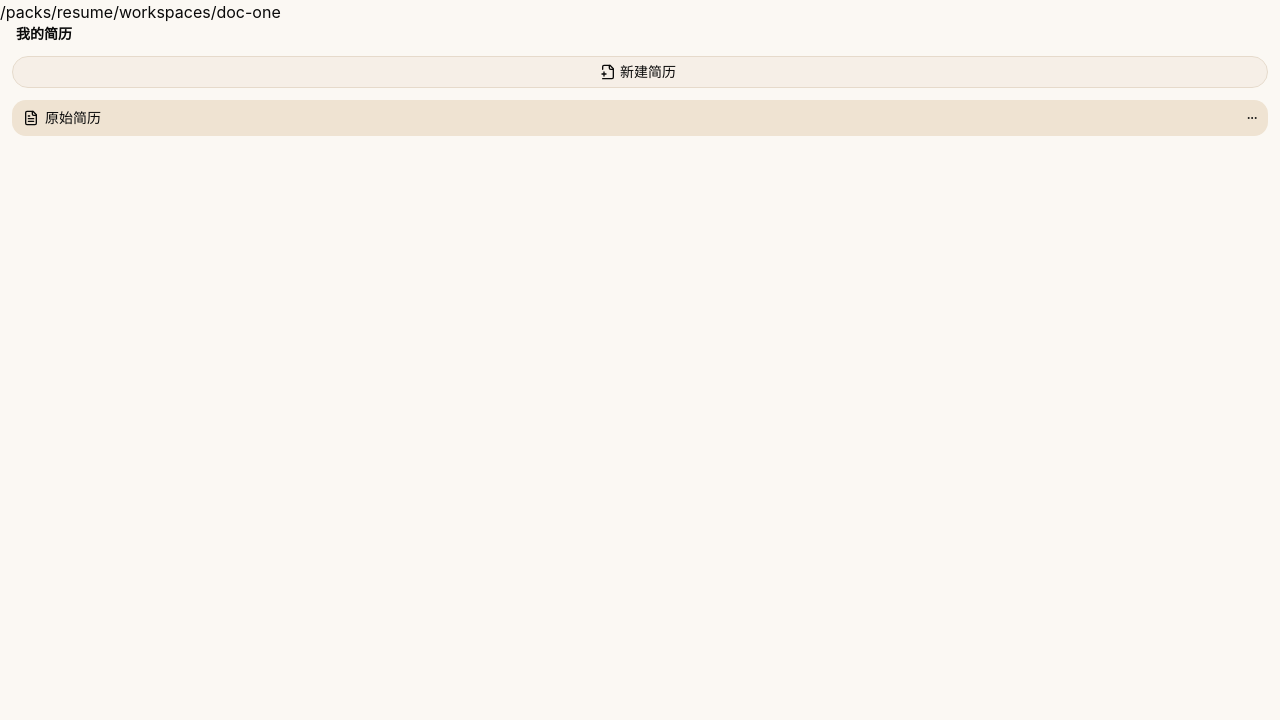
Scenario: ResumeDocumentList actions › renames a resume and notifies the open editor
The image size is (1280, 720).
Press ArrowDown in the button named "管理简历 原始简历", box [1240, 106, 1264, 130]
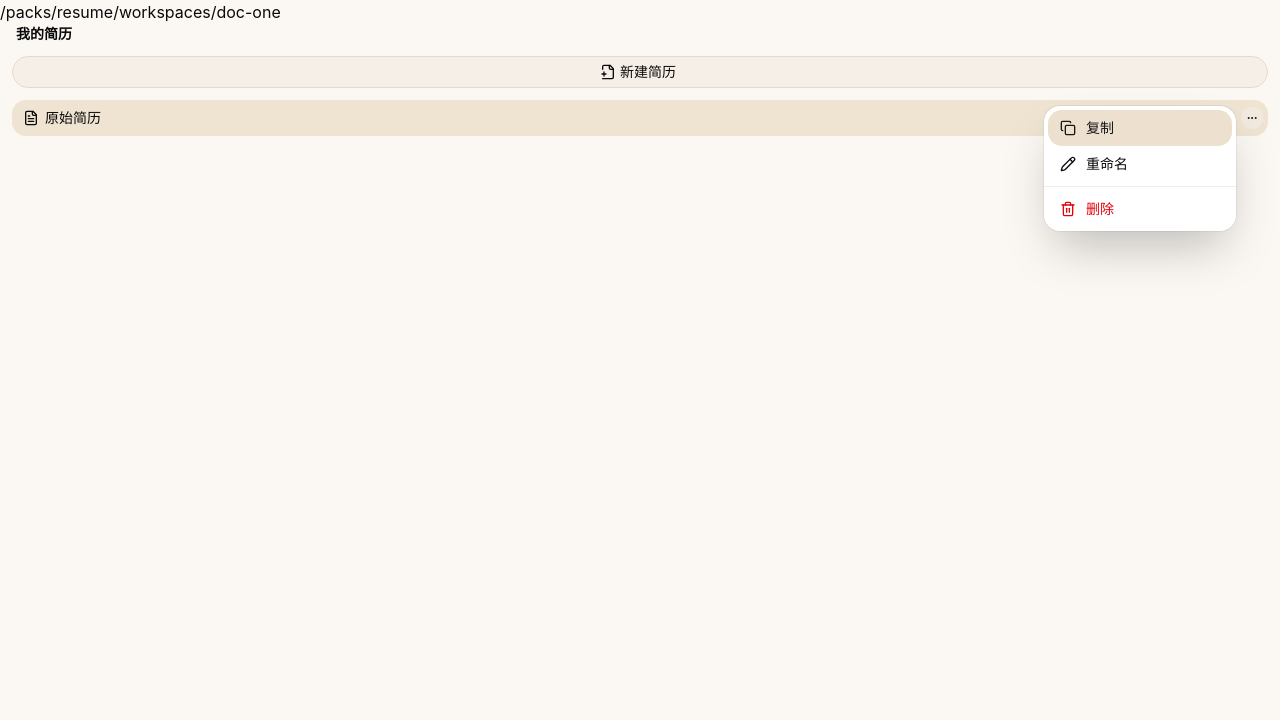
Click the menu item "重命名" at {"x": 1094, "y": 164}, box [1060, 155, 1128, 172]
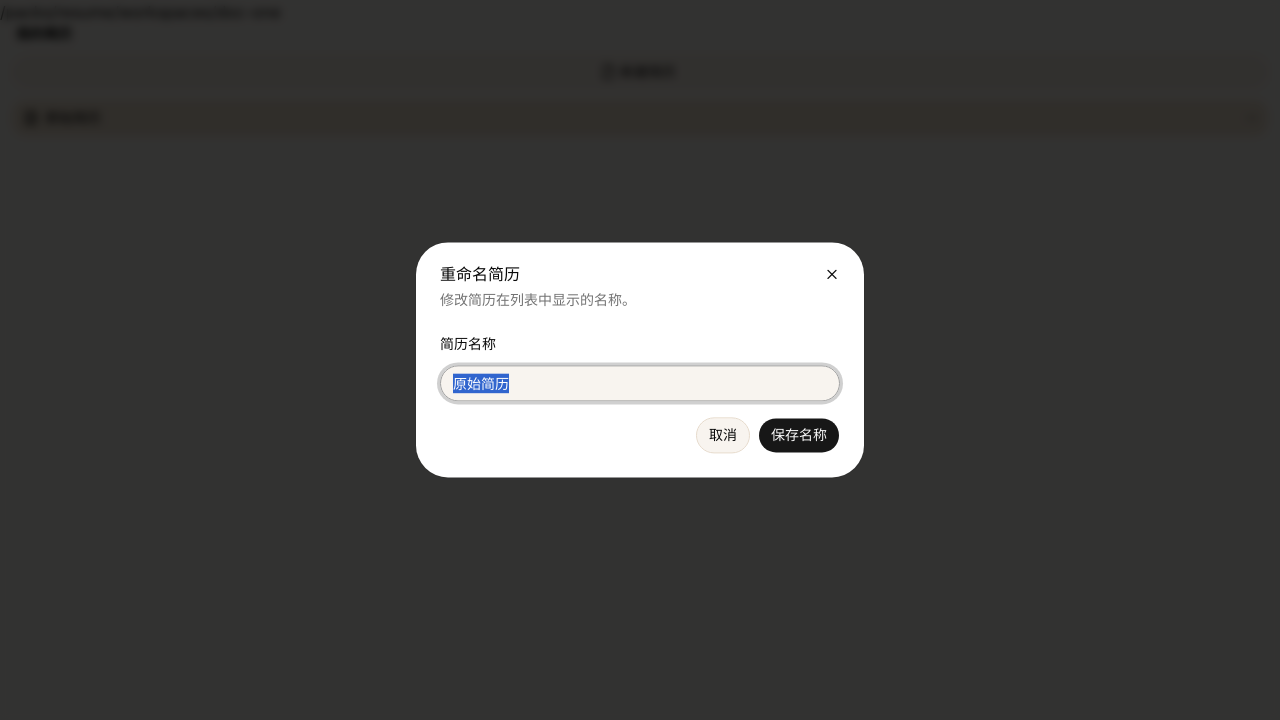
Replace the text in the field labelled "简历名称" with "面试简历" at {"x": 640, "y": 384}, box [440, 366, 840, 402]
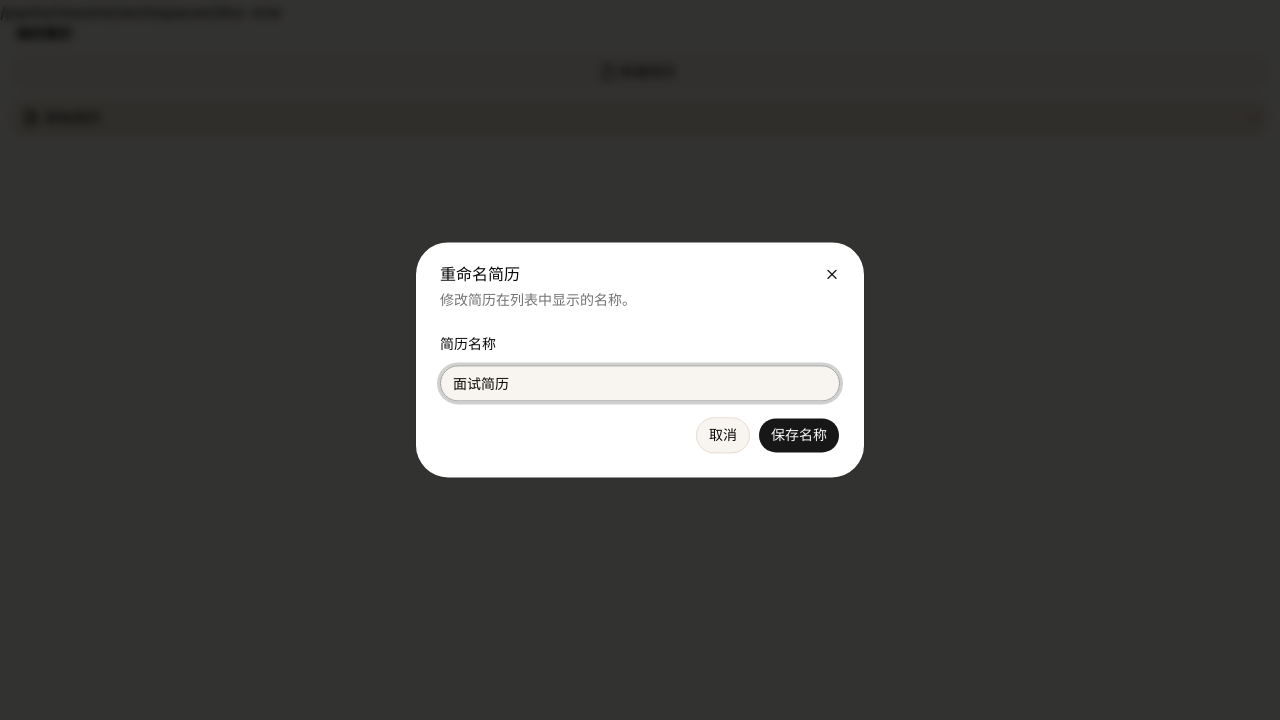
Click the button "保存名称" at {"x": 799, "y": 436}, box [758, 418, 840, 454]
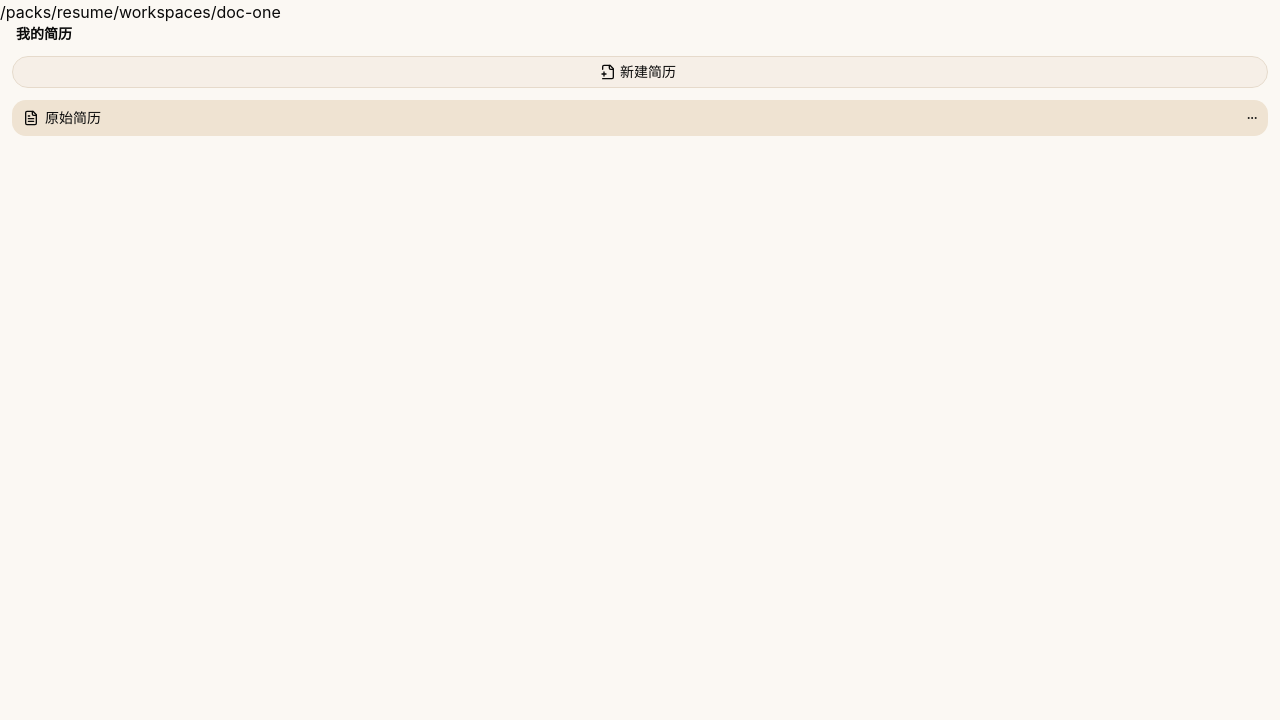
Expected: the dialog is gone
